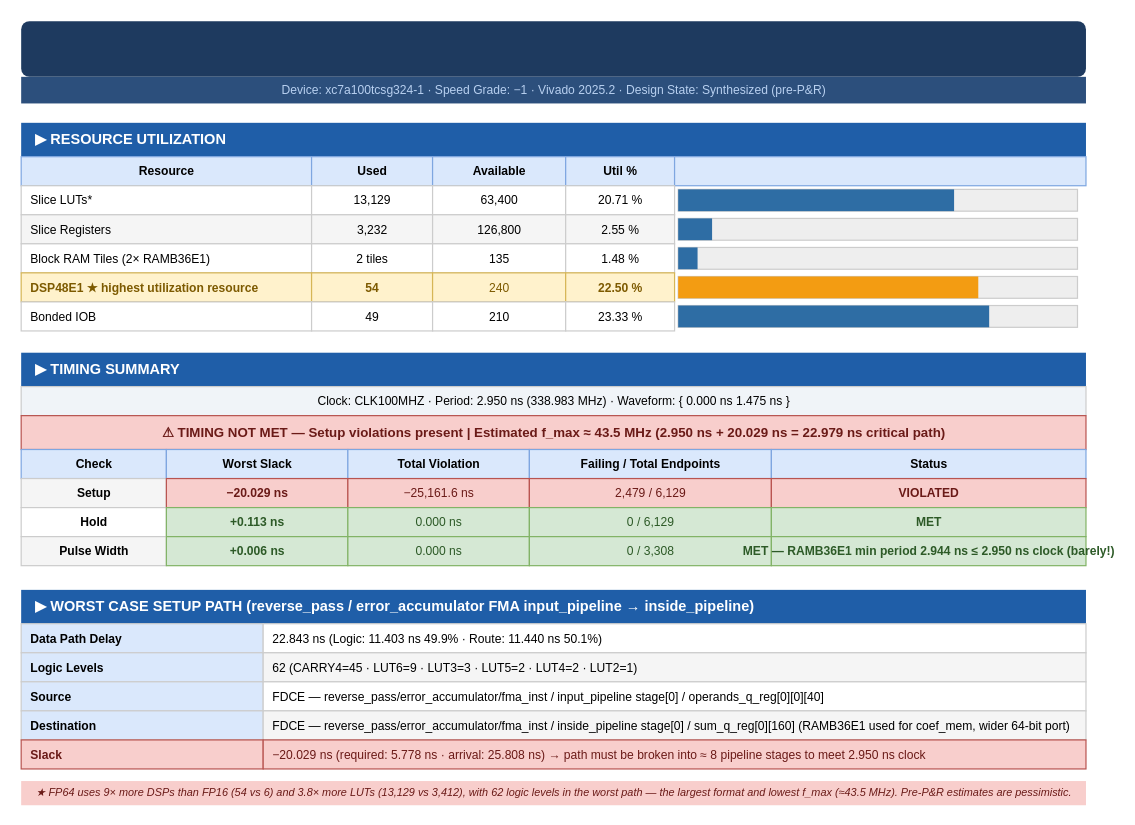
Image size: 1135x825. Some labels were removed from this diagram. The centre of each missing label's shape, as x and y in pixels:
FP64 — Polynomial Regression Synthesis Summary: point 553,48
Usage Bar (full bar = 30 %): point 879,170
